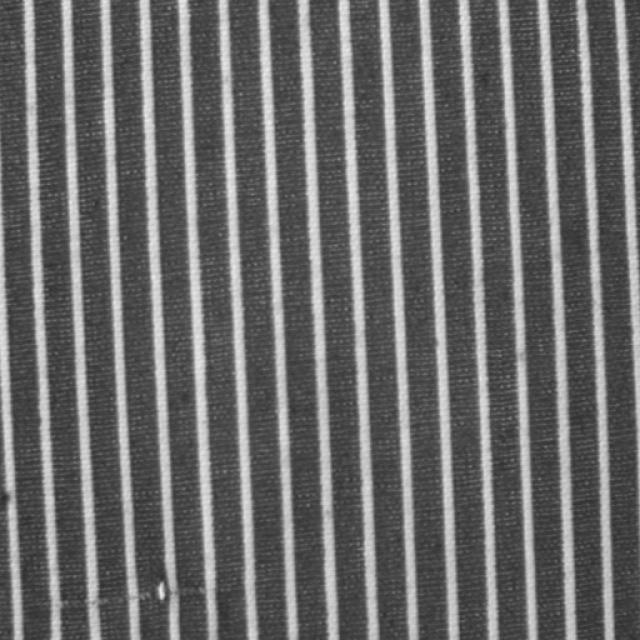Hole-Defect: (55, 581, 205, 619)
